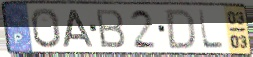2: (128, 8, 158, 50)
A: (62, 8, 96, 48)
B: (94, 8, 127, 49)
D: (165, 8, 196, 51)
L: (196, 8, 226, 50)
O: (29, 7, 63, 50)
